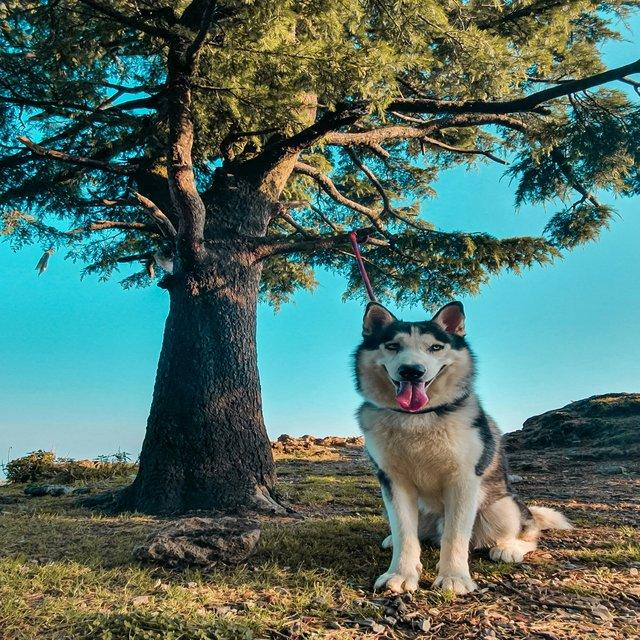husky: (350, 299, 573, 596)
